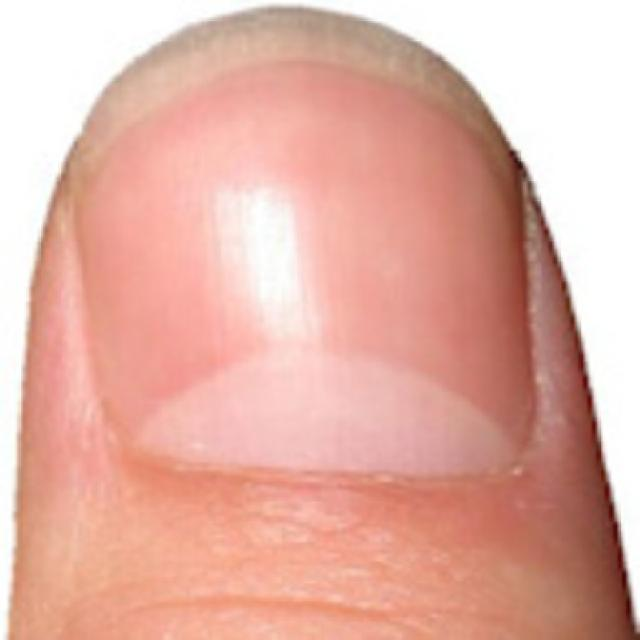Nail: (78, 62, 531, 474)
